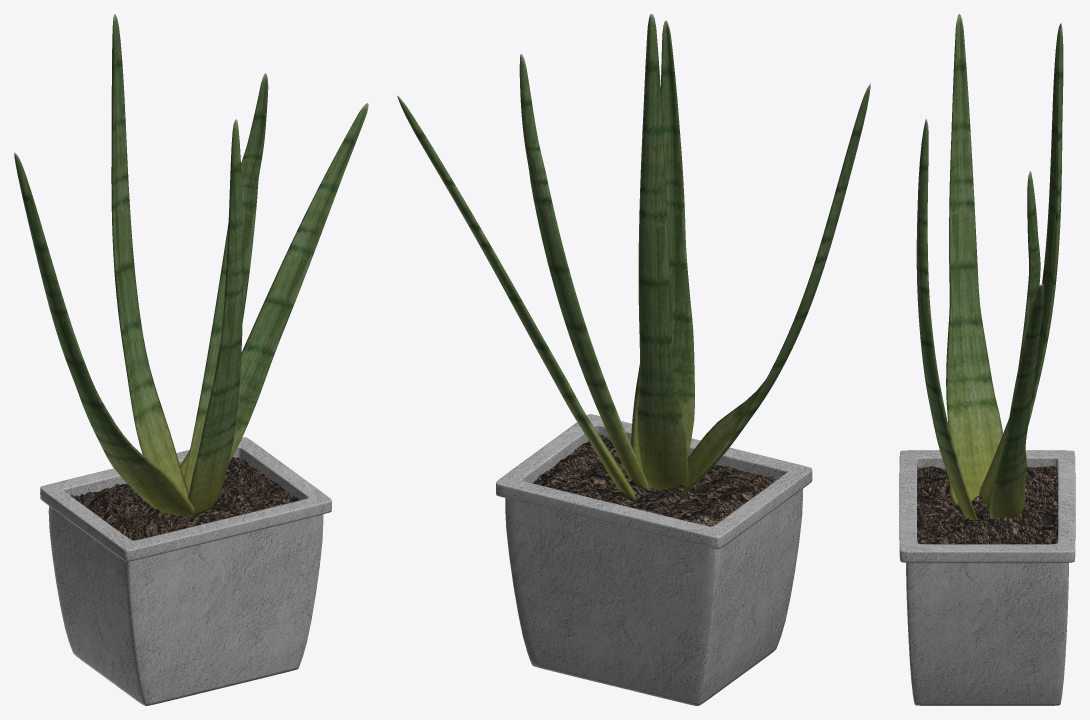
Rendered from CactusV2.fbx.
The picture shows the model from 3 angles, left to right: view 1: azimuth 30°, elevation 25°; view 2: azimuth 150°, elevation 25°; view 3: azimuth 270°, elevation 25°; orthographic projection. The views are drawn at different scales.
Visible parts, largest first — view 1: flower in a pot.001; view 2: flower in a pot.001; view 3: flower in a pot.001.
Part boxes in pixels (x1,y1,x2,y2): flower in a pot.001: [14, 14, 368, 705]; flower in a pot.001: [397, 14, 870, 705]; flower in a pot.001: [899, 14, 1075, 705].
Bounding box in the file's own units: 26.77 × 40.68 × 10.33.
